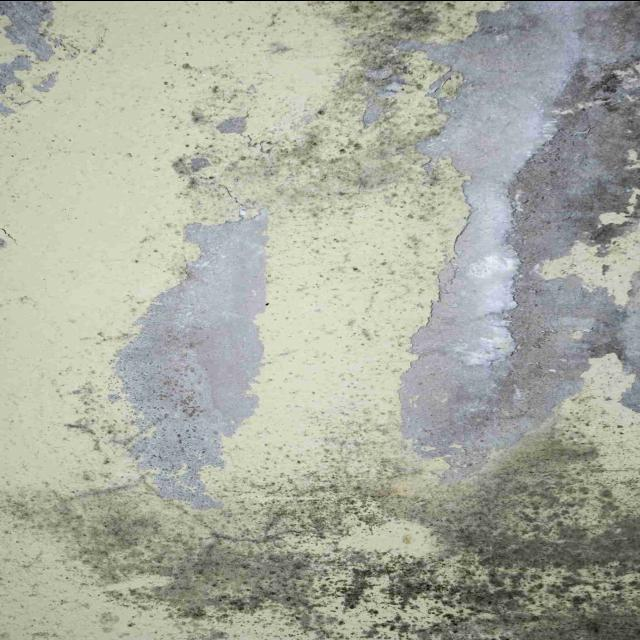wall_deterioration: (363, 0, 640, 478), (113, 196, 266, 514), (0, 0, 72, 118)
wall_stain: (0, 447, 640, 640)
